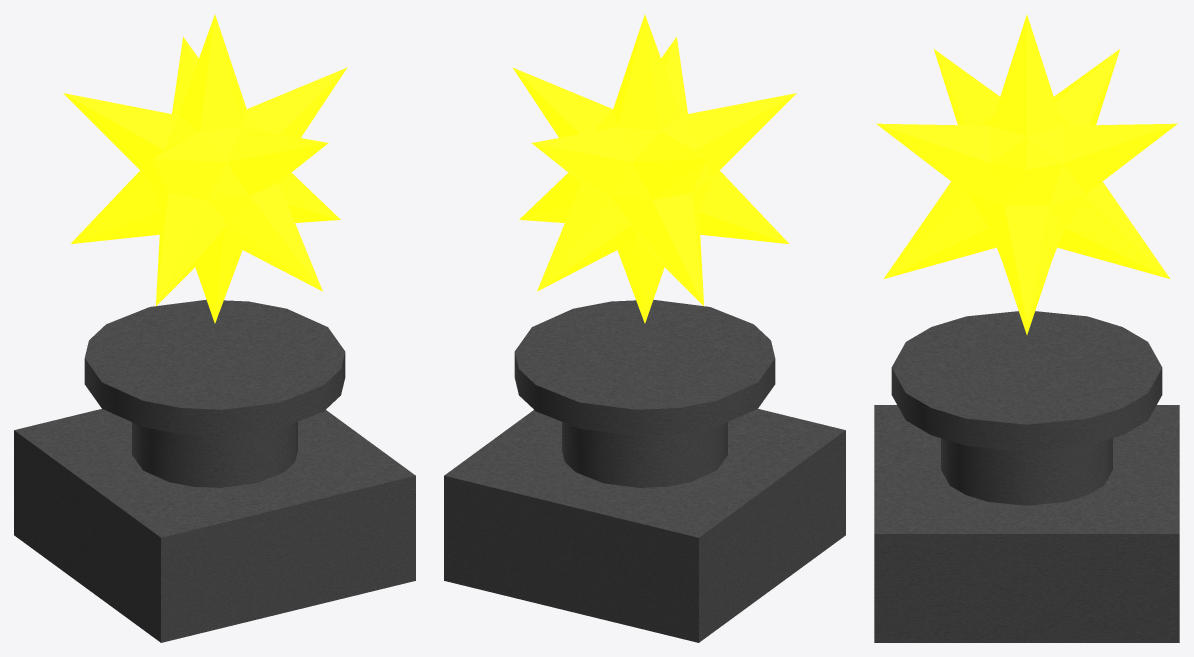
File: starPillar.fbx
The picture shows the model from 3 angles, left to right: view 1: azimuth 30°, elevation 25°; view 2: azimuth 150°, elevation 25°; view 3: azimuth 270°, elevation 25°; orthographic projection. The views are drawn at different scales.
Visible parts, largest first — view 1: Pillar, Star; view 2: Pillar, Star; view 3: Pillar, Star.
Boxes of the visible parts, <box> form: Pillar: <box>14,299,415,642</box>; Star: <box>63,14,347,323</box>; Pillar: <box>444,299,845,642</box>; Star: <box>512,14,796,323</box>; Pillar: <box>874,311,1179,642</box>; Star: <box>876,15,1177,334</box>.
Size of the model in its own units: 204 by 408 by 200.
